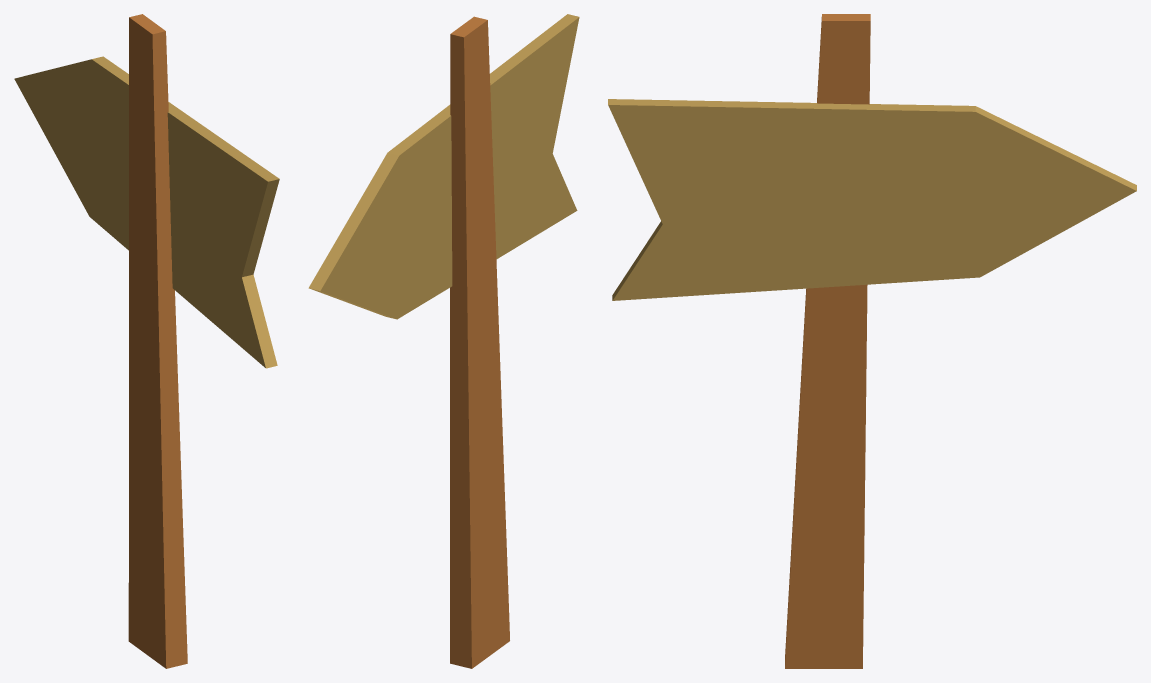
File: Road_Sign.fbx
The picture shows the model from 3 angles, left to right: view 1: azimuth 30°, elevation 25°; view 2: azimuth 150°, elevation 25°; view 3: azimuth 270°, elevation 25°; orthographic projection. The views are drawn at different scales.
Visible parts, largest first — view 1: Road Sign; view 2: Road Sign; view 3: Road Sign.
Boxes of the visible parts, x1,y1,x2,y2 form: Road Sign: [14, 14, 279, 668]; Road Sign: [308, 14, 579, 668]; Road Sign: [608, 14, 1136, 668].
Bounding box in the file's own units: 7.28 × 151 × 112.
Materials: 1 (1 with a texture image).
